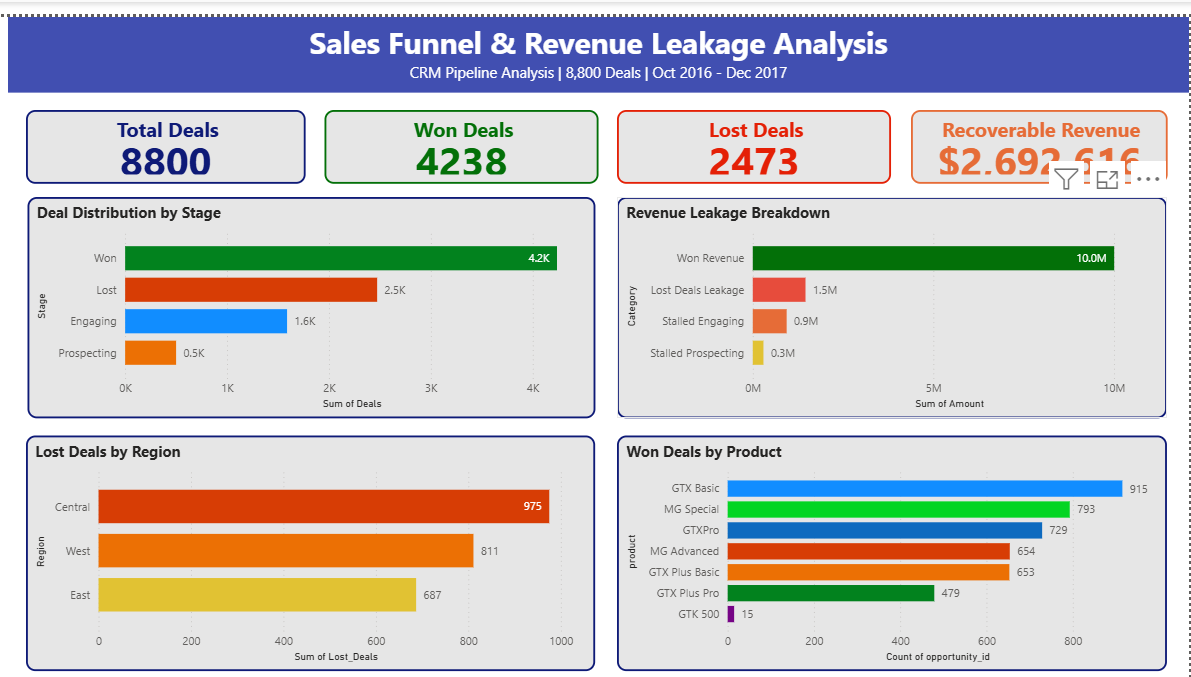

Layout of this report page (visuals, bound fields, positions):
{"tool":"powerbi","page":{"name":"Page 1","canvas":[1280,720],"ordinal":0},"visuals":[{"type":"textbox","box":[9.4,0,1269.9,81.3],"z":0},{"type":"card","title":"Total Deals","fields":{"Values":["CountNonNull(powerbi_main.opportunity_id)"]},"box":[28.3,100.2,300.5,79.4],"z":1000},{"type":"card","title":"Won Deals","fields":{"Values":["CountNonNull(powerbi_main.opportunity_id)"]},"box":[349.6,100.2,294.8,79.4],"z":2000},{"type":"card","title":"Lost Deals","fields":{"Values":["CountNonNull(powerbi_main.opportunity_id)"]},"box":[665.2,100.2,294.8,79.4],"z":3000},{"type":"card","title":"Recoverable Revenue","fields":{"Values":["powerbi_leakage.Recoverable Display"]},"box":[980.8,100.2,275.9,79.4],"z":4000},{"type":"barChart","title":"Deal Distribution by Stage","fields":{"Category":["powerbi_funnel.Stage"],"Y":["Sum(powerbi_funnel.Deals)"]},"box":[30.2,192.8,610.4,238.1],"z":5000},{"type":"barChart","title":"Revenue Leakage Breakdown","fields":{"Category":["powerbi_leakage.Category"],"Y":["Sum(powerbi_leakage.Amount)"]},"box":[665.2,192.8,591.5,238.1],"z":6000},{"type":"barChart","title":"Lost Deals by Region","fields":{"Category":["powerbi_region.Region"],"Y":["Sum(powerbi_region.Lost_Deals)"]},"box":[28.3,449.8,612.3,253.2],"z":6001},{"type":"barChart","title":"Won Deals by Product","fields":{"Category":["powerbi_main.product"],"Y":["CountNonNull(powerbi_main.opportunity_id)"]},"box":[665.2,449.8,591.5,253.2],"z":6002}]}

Visuals, with their boxes in screenshot pixels (x1, y1, x2, y2), scaled from the page's 1280x720 canvas onto the 1191x677 screenshot:
textbox: {"x1": 9, "y1": 0, "x2": 1190, "y2": 76}
"Total Deals" card: {"x1": 26, "y1": 94, "x2": 306, "y2": 169}
"Won Deals" card: {"x1": 325, "y1": 94, "x2": 600, "y2": 169}
"Lost Deals" card: {"x1": 619, "y1": 94, "x2": 893, "y2": 169}
"Recoverable Revenue" card: {"x1": 913, "y1": 94, "x2": 1169, "y2": 169}
"Deal Distribution by Stage" barChart: {"x1": 28, "y1": 181, "x2": 596, "y2": 405}
"Revenue Leakage Breakdown" barChart: {"x1": 619, "y1": 181, "x2": 1169, "y2": 405}
"Lost Deals by Region" barChart: {"x1": 26, "y1": 423, "x2": 596, "y2": 661}
"Won Deals by Product" barChart: {"x1": 619, "y1": 423, "x2": 1169, "y2": 661}
